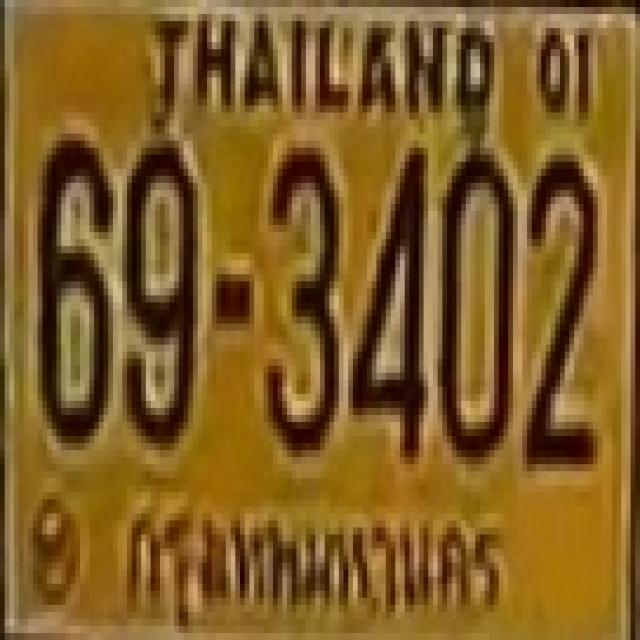0: (435, 148, 511, 457)
2: (522, 151, 593, 440)
3: (261, 141, 337, 450)
4: (348, 144, 424, 454)
6: (42, 134, 113, 436)
9: (125, 137, 195, 440)
BKK: (109, 489, 507, 630)
